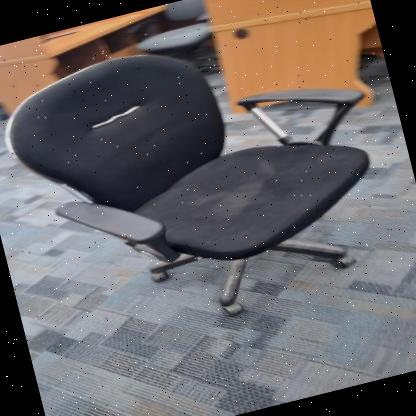chair: (0, 0, 415, 372)
